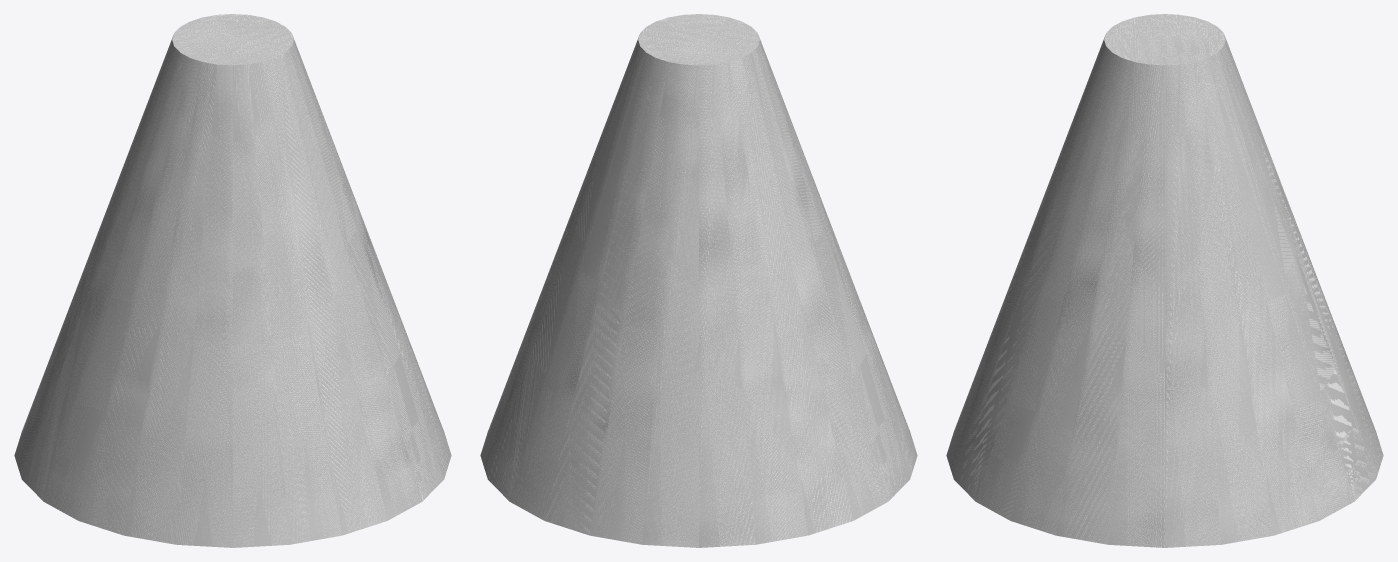
The model's file is original-19.obj.
3 renders of one model, left to right at view 1: azimuth 30°, elevation 25°; view 2: azimuth 150°, elevation 25°; view 3: azimuth 270°, elevation 25°, orthographic.
Parts seen in each view (by area): view 1: Group13/mesh38/mesh38-geometry#mesh38-geometry; view 2: Group13/mesh38/mesh38-geometry#mesh38-geometry; view 3: Group13/mesh38/mesh38-geometry#mesh38-geometry.
Boxes of the visible parts, x1,y1,x2,y2 form: Group13/mesh38/mesh38-geometry#mesh38-geometry: [14, 14, 451, 547]; Group13/mesh38/mesh38-geometry#mesh38-geometry: [480, 14, 917, 547]; Group13/mesh38/mesh38-geometry#mesh38-geometry: [946, 14, 1383, 547].
Size of the model in its own units: 0.1524 by 0.1599 by 0.1524.
